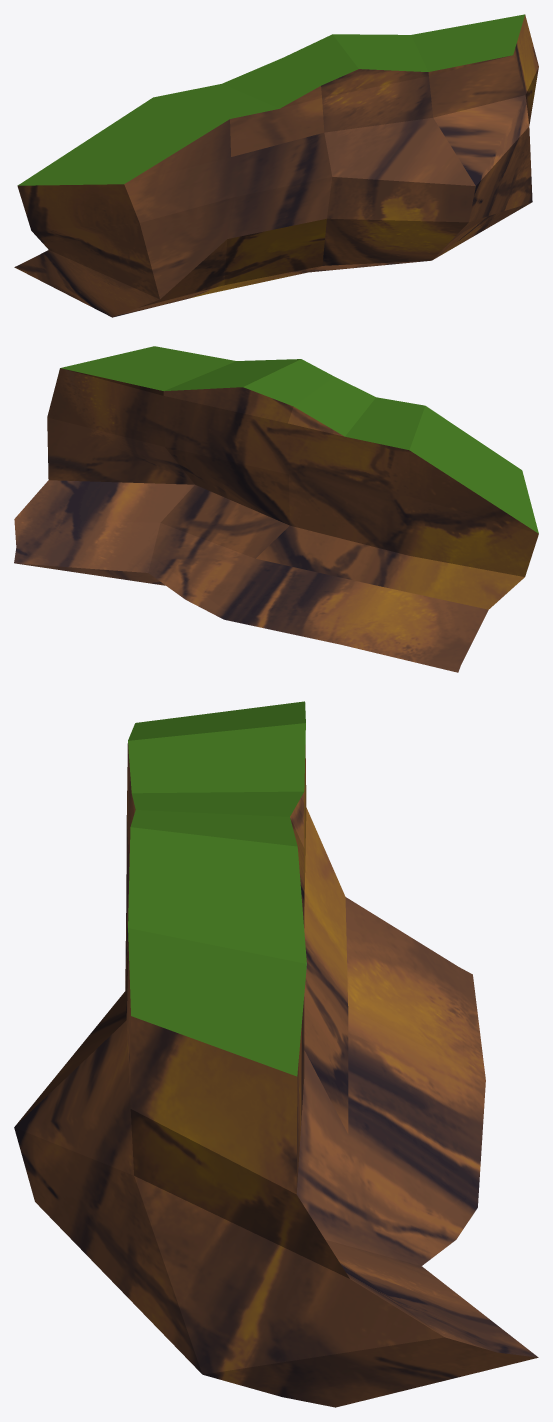
Rendered from sali44.obj.
3 renders of one model, top to bottom at view 1: azimuth 30°, elevation 25°; view 2: azimuth 150°, elevation 25°; view 3: azimuth 270°, elevation 25°, orthographic. The views are drawn at different scales.
Visible parts, largest first — view 1: Cube.005_Cube.002; view 2: Cube.005_Cube.002; view 3: Cube.005_Cube.002.
Part boxes in pixels (x1,y1,x2,y2): Cube.005_Cube.002: (14,14,538,317); Cube.005_Cube.002: (14,346,538,672); Cube.005_Cube.002: (14,701,538,1407).
Bounding box in the file's own units: 195 × 85 × 89.85.
1 material, 1 textured.
